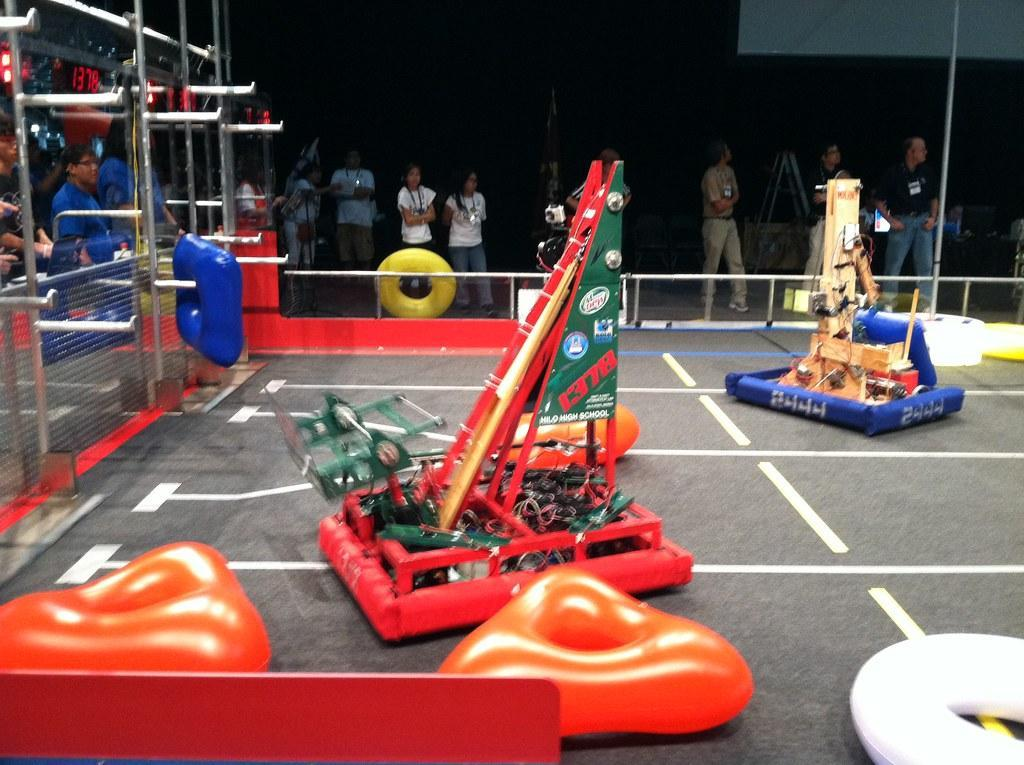robot: (264, 147, 697, 650), (722, 168, 973, 444)
